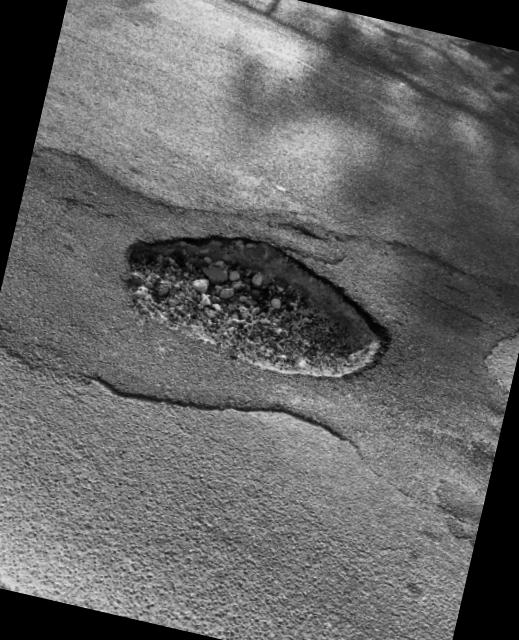Pothole: (81, 181, 447, 426)
